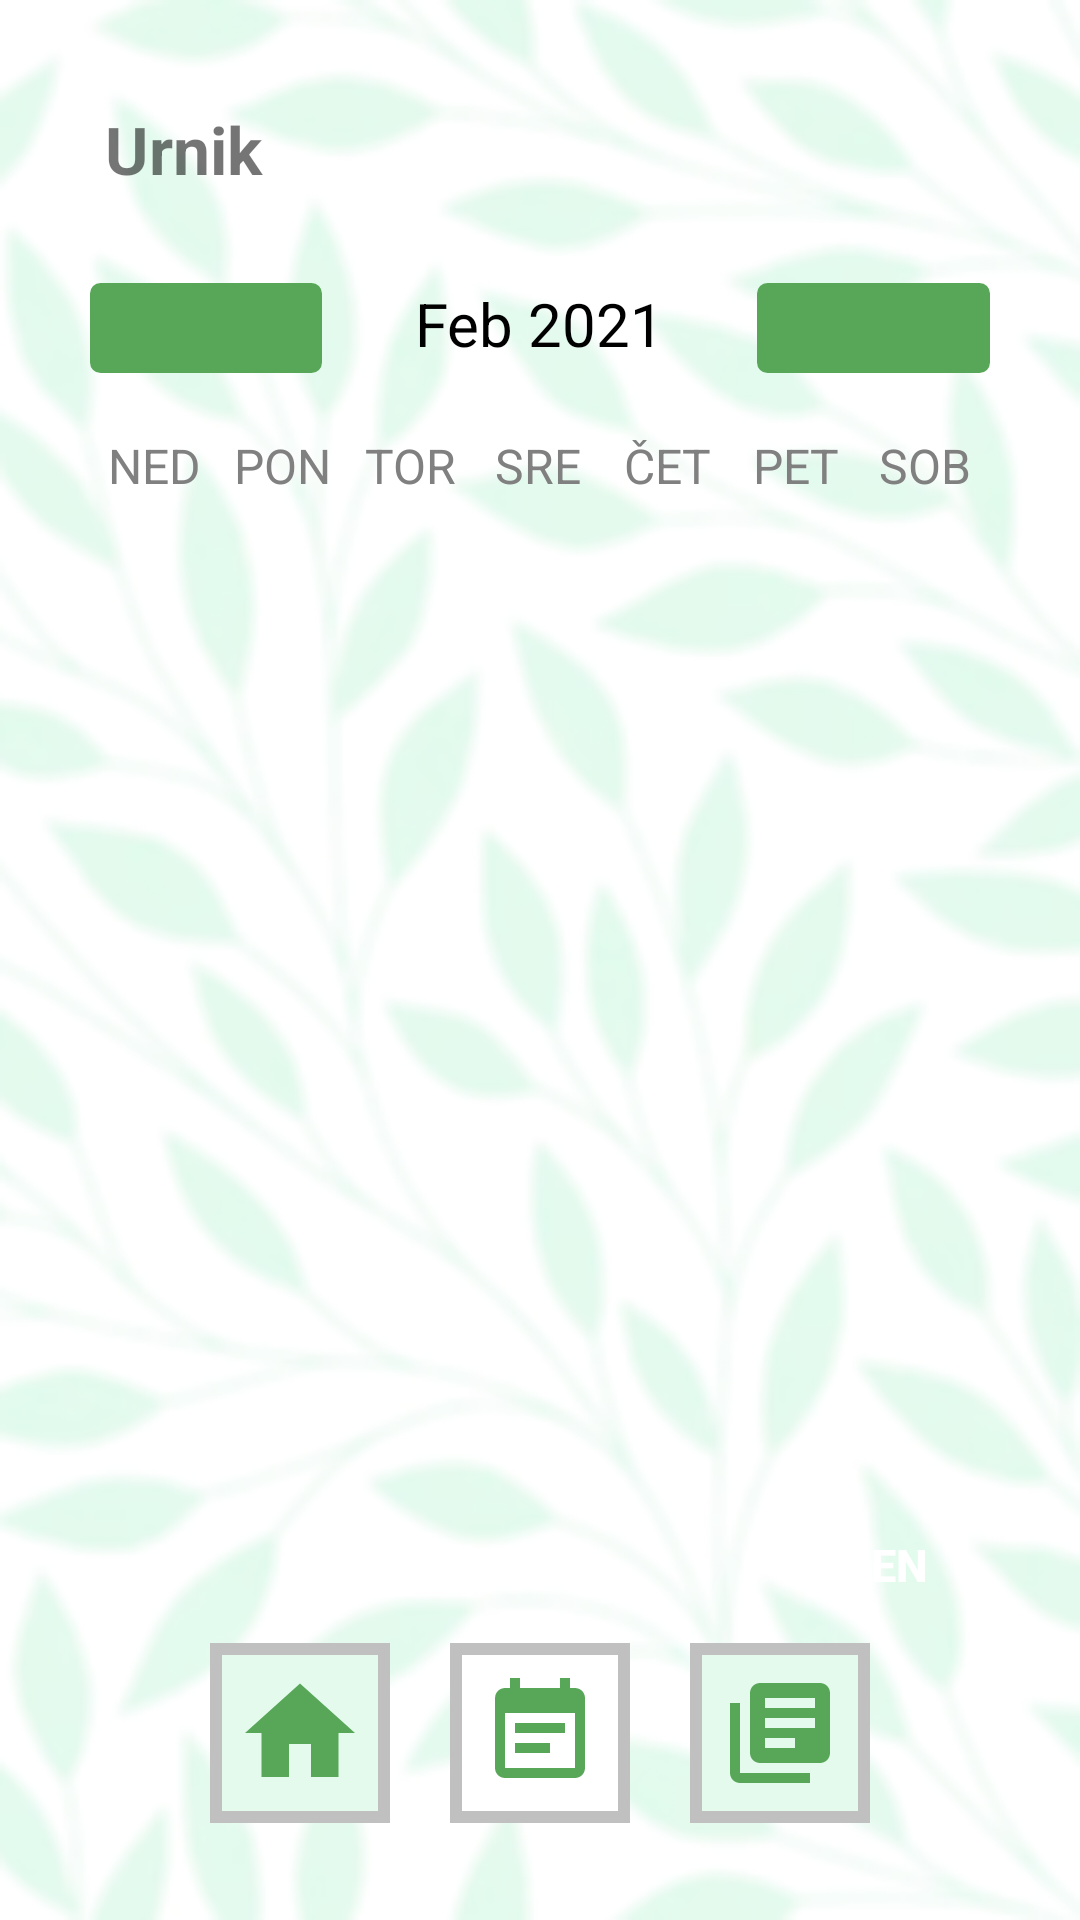

Where to tap for icons on this 1080x1920 app screen, as point (x, y):
event note: point (540, 1733)
home: point (300, 1733)
library books: point (780, 1733)
